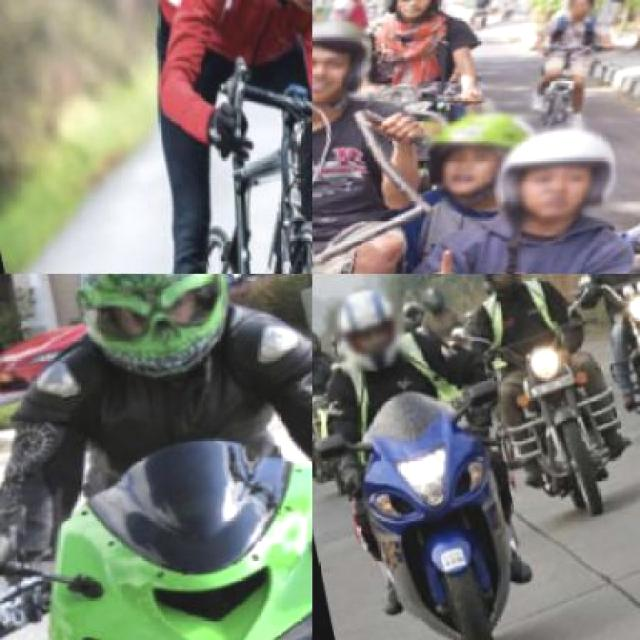With Helmet: (62, 274, 258, 395), (484, 111, 628, 237), (421, 90, 556, 216), (312, 0, 386, 122), (328, 283, 417, 379), (377, 0, 455, 34), (472, 274, 530, 295), (420, 279, 449, 316), (312, 337, 323, 377)
Without Helmet: (556, 0, 602, 28)
